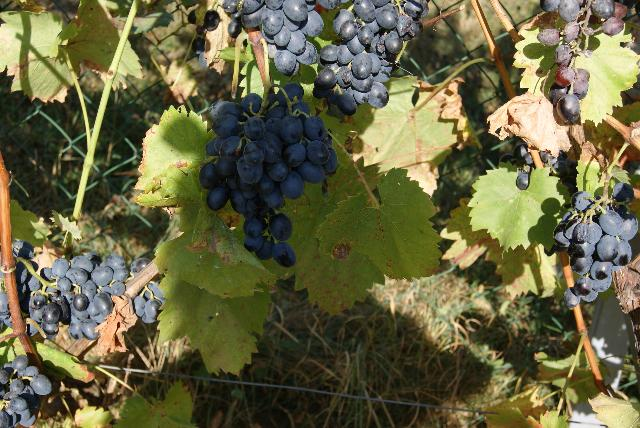grapes: (199, 84, 338, 268), (12, 240, 150, 341), (312, 0, 429, 115), (536, 0, 626, 122), (554, 182, 638, 308), (241, 0, 324, 75), (132, 280, 165, 324)
